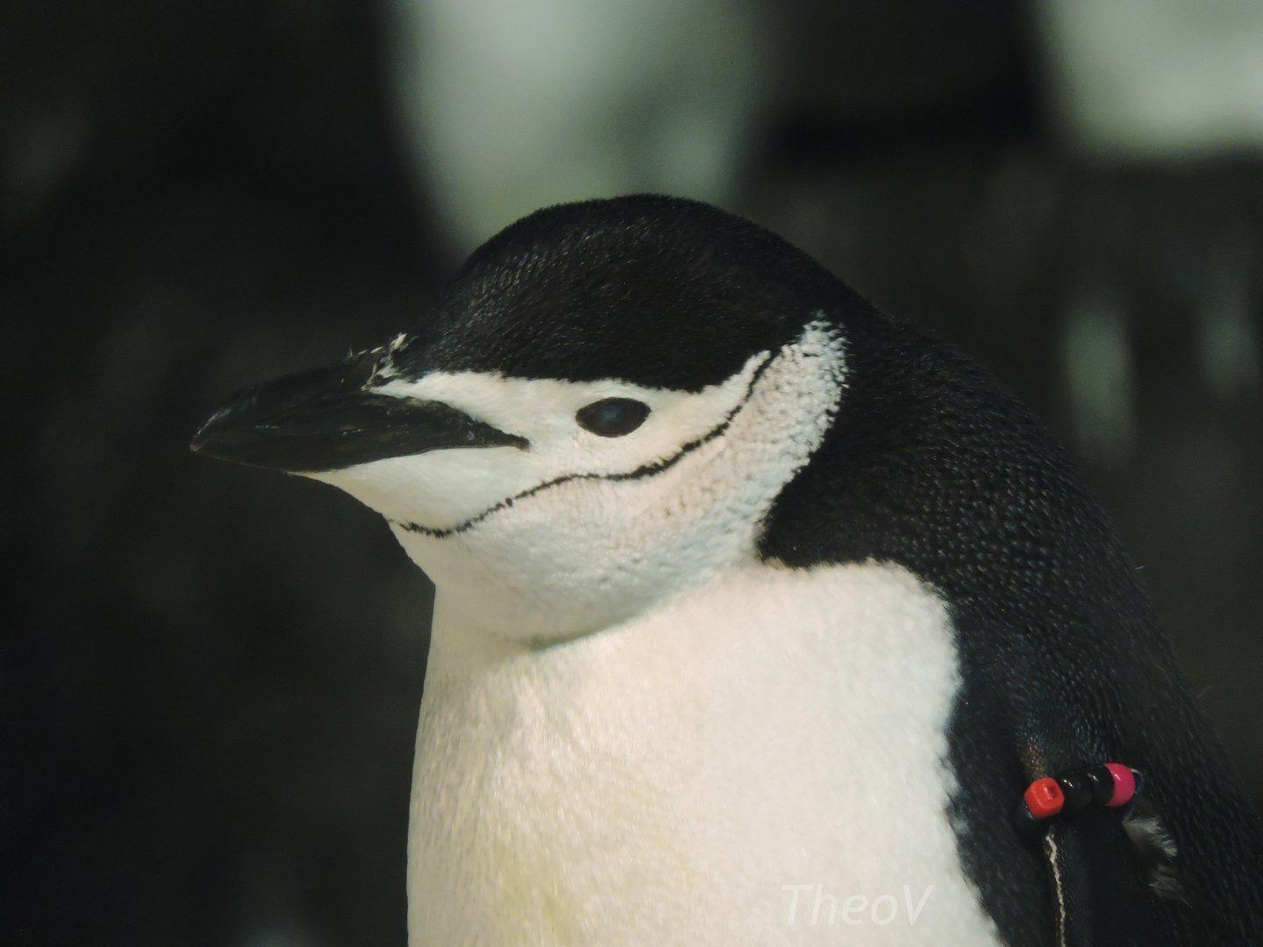Penguin: (192, 195, 1262, 944)
